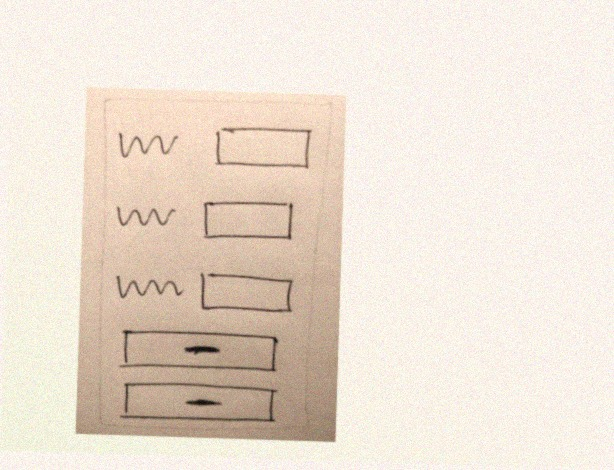button: (115, 324, 281, 377), (113, 376, 281, 428)
text: (110, 267, 189, 310), (112, 127, 182, 159), (111, 201, 180, 230)
text_input: (207, 119, 318, 178), (194, 268, 299, 321), (199, 197, 299, 246)
